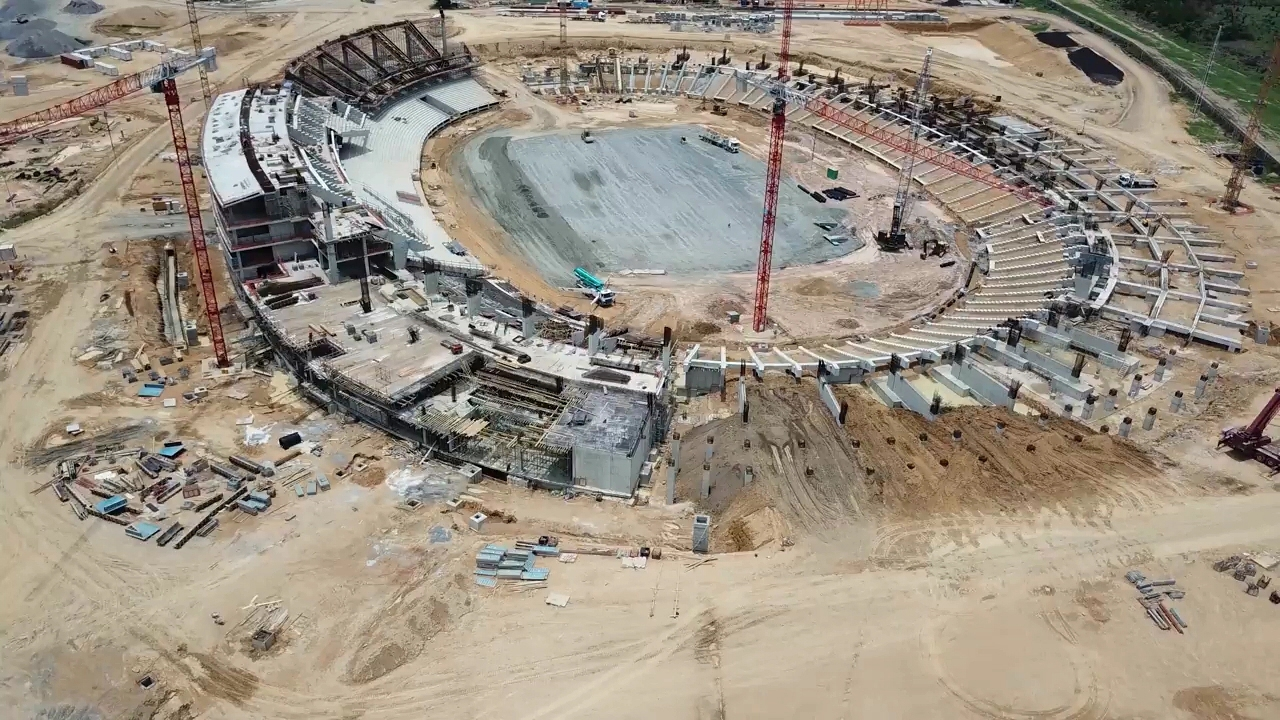ismakinesi: (917, 235, 954, 262)
kamyon: (696, 123, 744, 154)
